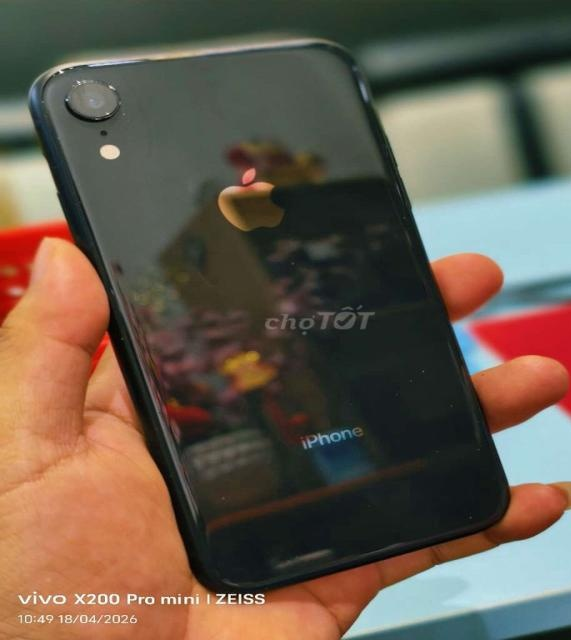scratch: (56, 90, 80, 114), (107, 93, 132, 116), (52, 63, 83, 77), (279, 256, 305, 271), (104, 77, 120, 100), (442, 394, 458, 416), (38, 93, 55, 112), (62, 76, 84, 89), (49, 132, 67, 146), (429, 447, 444, 458), (215, 496, 229, 505), (467, 512, 477, 524), (473, 444, 482, 457), (416, 366, 425, 378)
